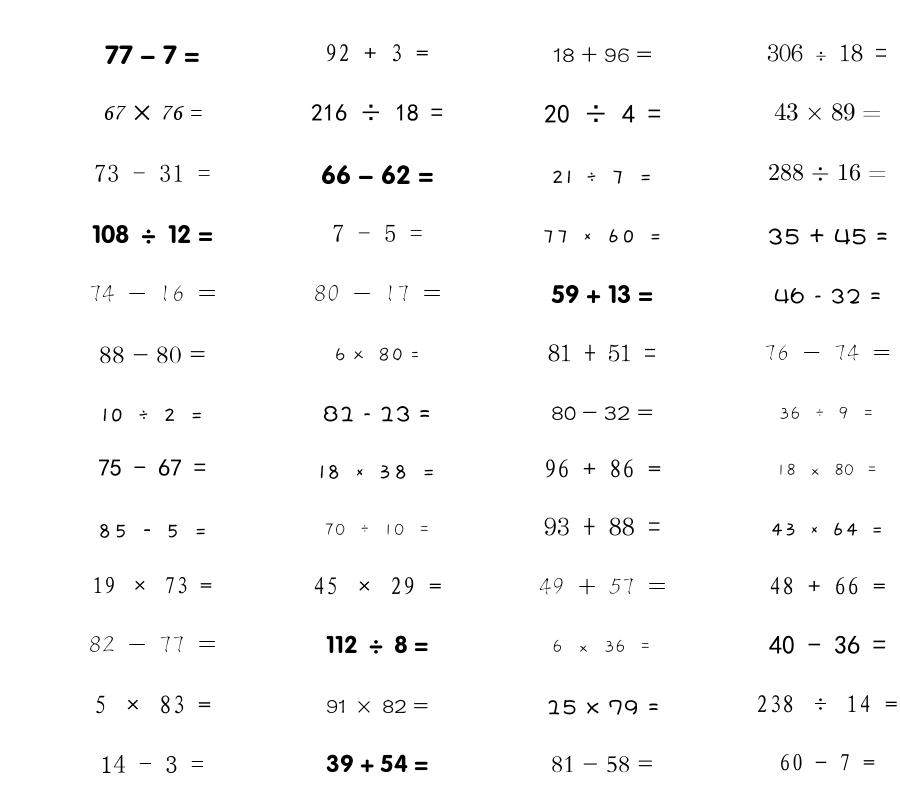MQ: (756, 695, 898, 713), (92, 224, 213, 244), (544, 104, 661, 124), (769, 635, 886, 655), (313, 577, 442, 595), (89, 284, 216, 302), (539, 577, 666, 595), (321, 165, 434, 185), (311, 104, 443, 121), (544, 459, 661, 478), (544, 517, 661, 536), (94, 695, 211, 714), (767, 44, 887, 62), (92, 576, 212, 594), (314, 285, 441, 302), (764, 344, 891, 361), (89, 636, 216, 653), (768, 163, 887, 181), (94, 164, 211, 182), (769, 577, 886, 595), (767, 228, 888, 245), (551, 284, 653, 304), (548, 344, 656, 362), (326, 635, 428, 654), (326, 754, 428, 773), (774, 103, 881, 121), (99, 346, 206, 364), (105, 45, 200, 65), (325, 44, 429, 62), (100, 755, 204, 773), (323, 405, 431, 422), (98, 459, 206, 476), (774, 287, 881, 304), (546, 699, 659, 715), (318, 464, 436, 479), (551, 756, 654, 773), (779, 753, 875, 771), (553, 46, 652, 63), (542, 229, 662, 243), (97, 523, 208, 538), (332, 224, 423, 242), (102, 105, 202, 121), (770, 522, 884, 536), (101, 408, 204, 422), (551, 170, 653, 184), (551, 406, 653, 420), (326, 699, 428, 713), (552, 639, 652, 653), (324, 523, 431, 536), (779, 406, 875, 420), (776, 463, 878, 476), (334, 347, 420, 362)
